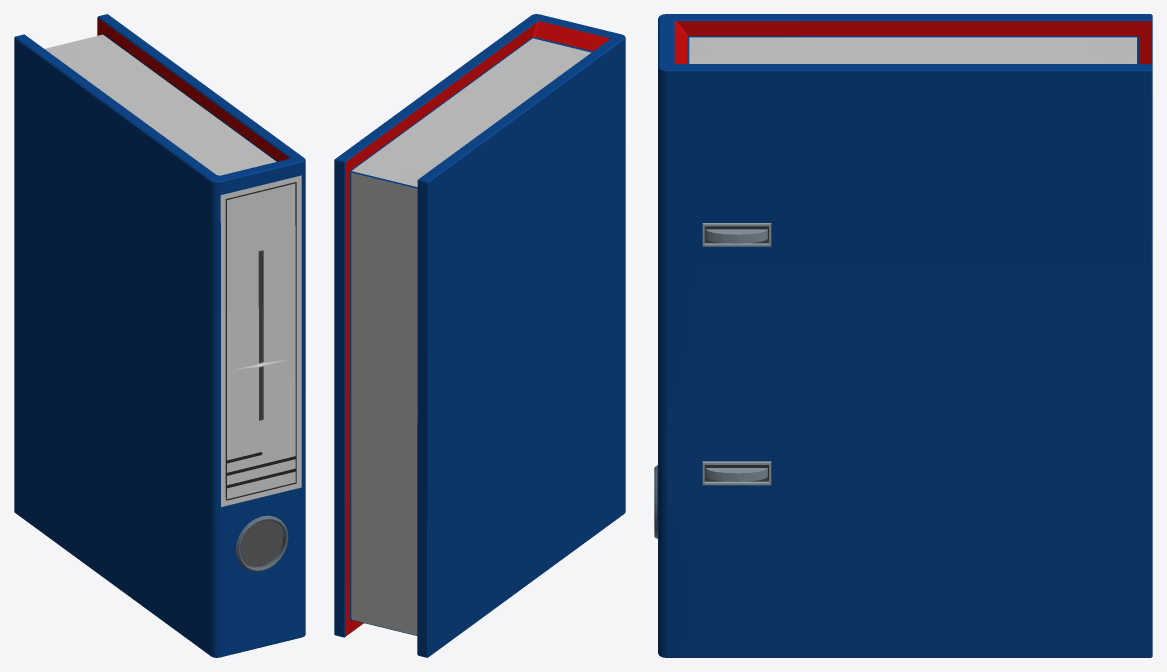
Rendered from SM_FolderRing_Blue.fbx.
3 renders of one model, left to right at view 1: azimuth 30°, elevation 25°; view 2: azimuth 150°, elevation 25°; view 3: azimuth 270°, elevation 25°, orthographic. The views are drawn at different scales.
Visible parts, largest first — view 1: SM_FolderRing_Blue; view 2: SM_FolderRing_Blue; view 3: SM_FolderRing_Blue.
Boxes of the visible parts, left/top/right/bottom form: SM_FolderRing_Blue: left=14, top=14, right=305, bottom=657; SM_FolderRing_Blue: left=334, top=14, right=625, bottom=657; SM_FolderRing_Blue: left=654, top=14, right=1152, bottom=657.
Size of the model in its own units: 8.7 by 38.5 by 29.54.
